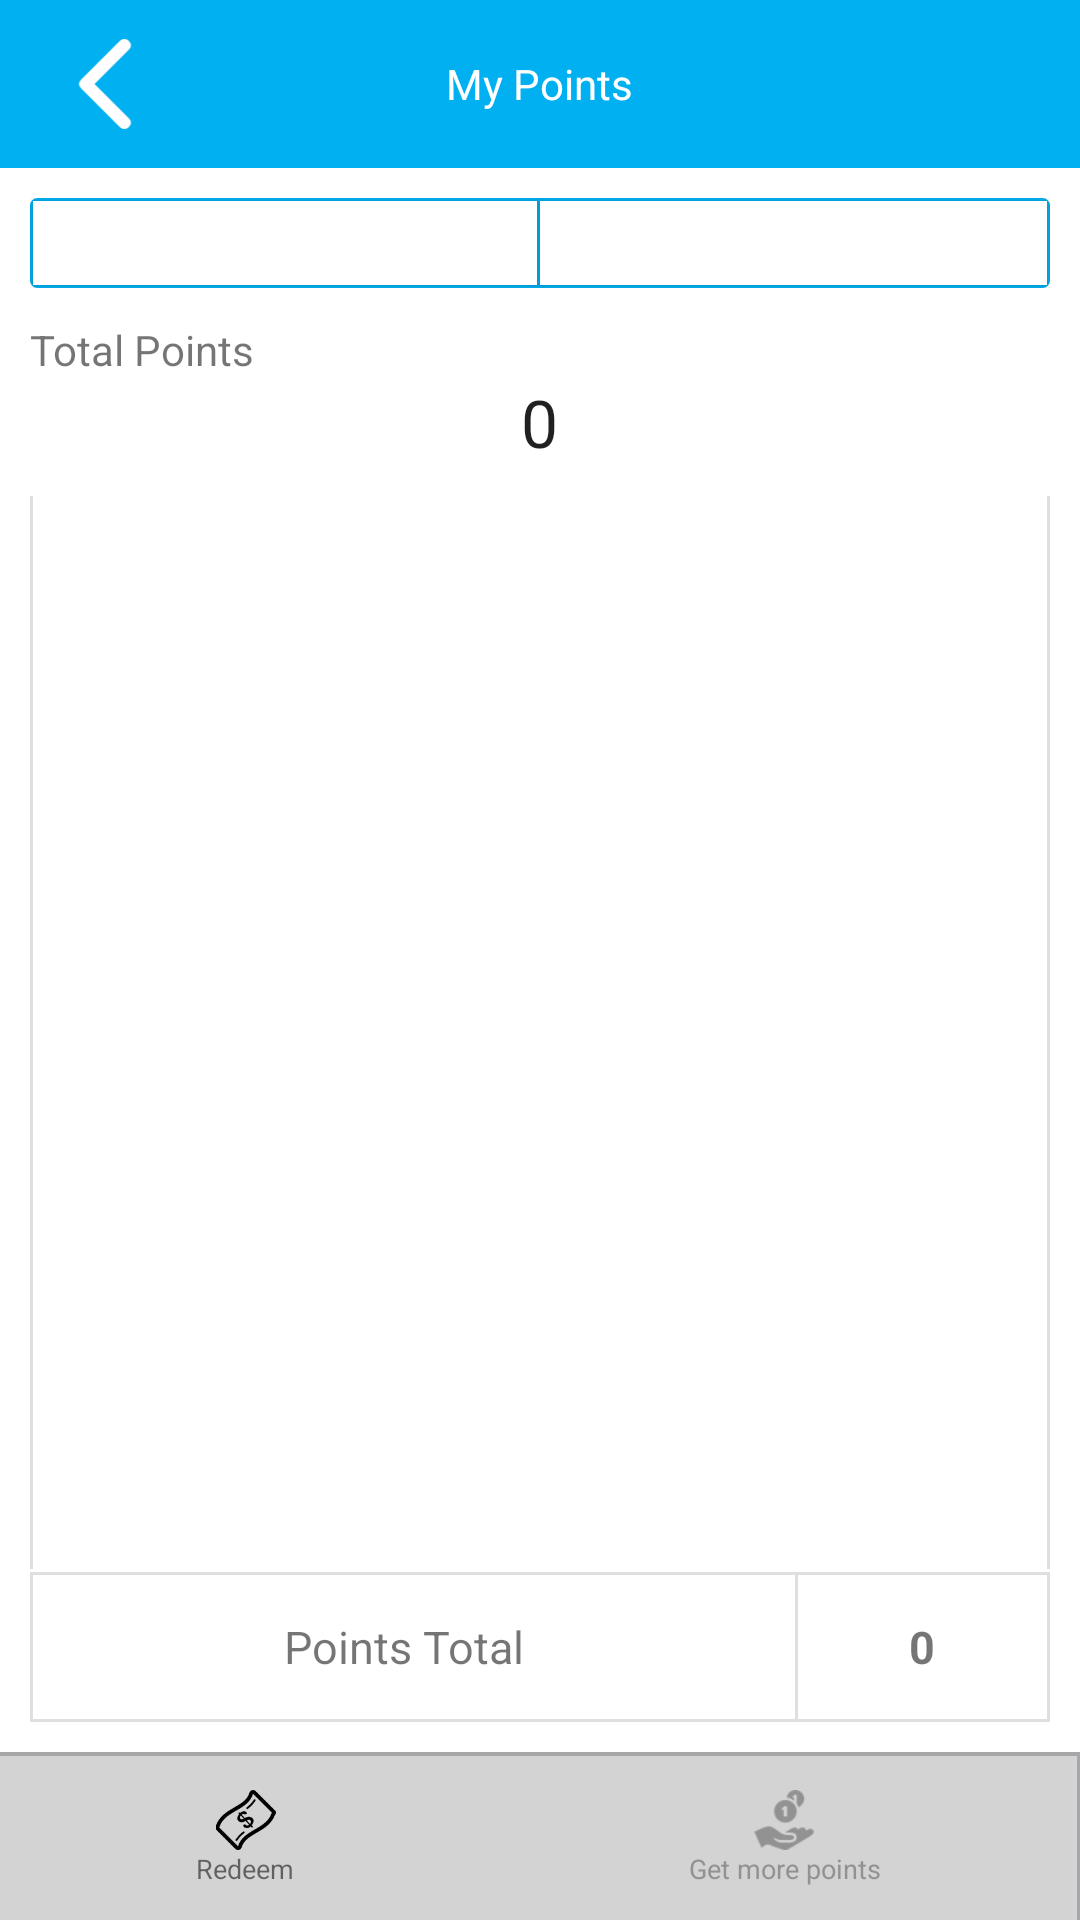

Where to tap for icons on this 1080x1920 app screen, as (x=x, y=y):
back: (x=105, y=84)
